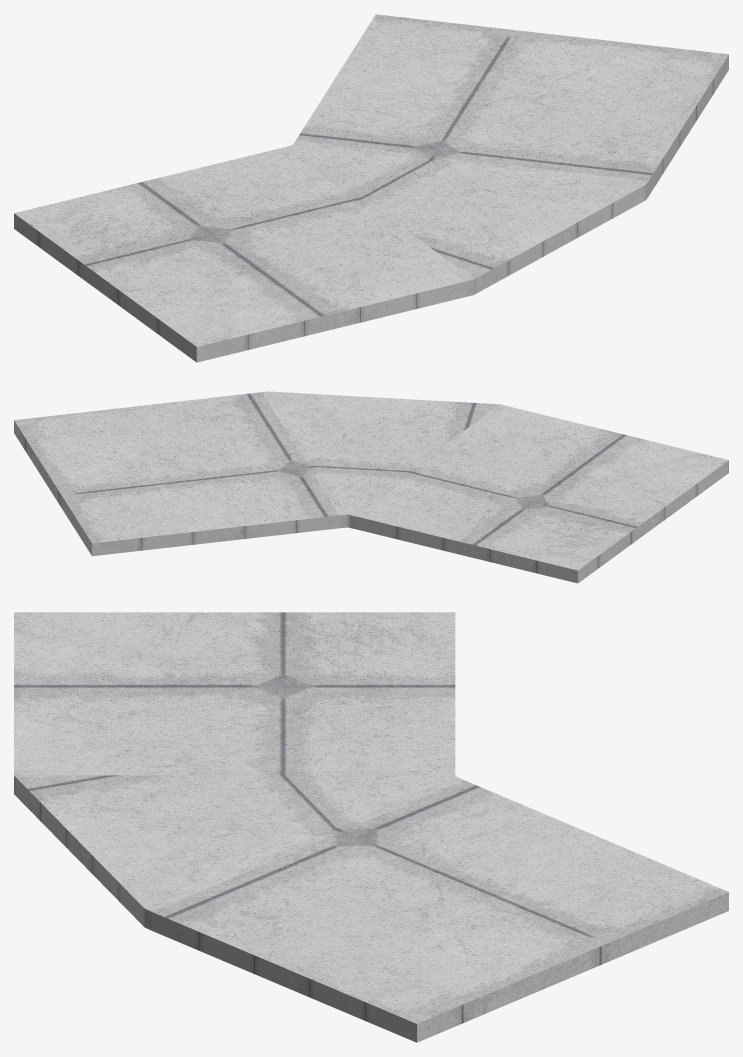
File: simple_grate45bend.fbx
3 views of the same model, one above another, from view 1: azimuth 30°, elevation 25°; view 2: azimuth 150°, elevation 25°; view 3: azimuth 270°, elevation 25° (orthographic). The views are drawn at different scales.
Parts seen in each view (by area): view 1: simple_grate45; view 2: simple_grate45; view 3: simple_grate45.
Boxes of the visible parts, x1,y1,x2,y2 form: simple_grate45: (14,14,728,362); simple_grate45: (14,391,728,583); simple_grate45: (14,612,728,1042).
Size of the model in its own units: 149 by 3.19 by 110.
